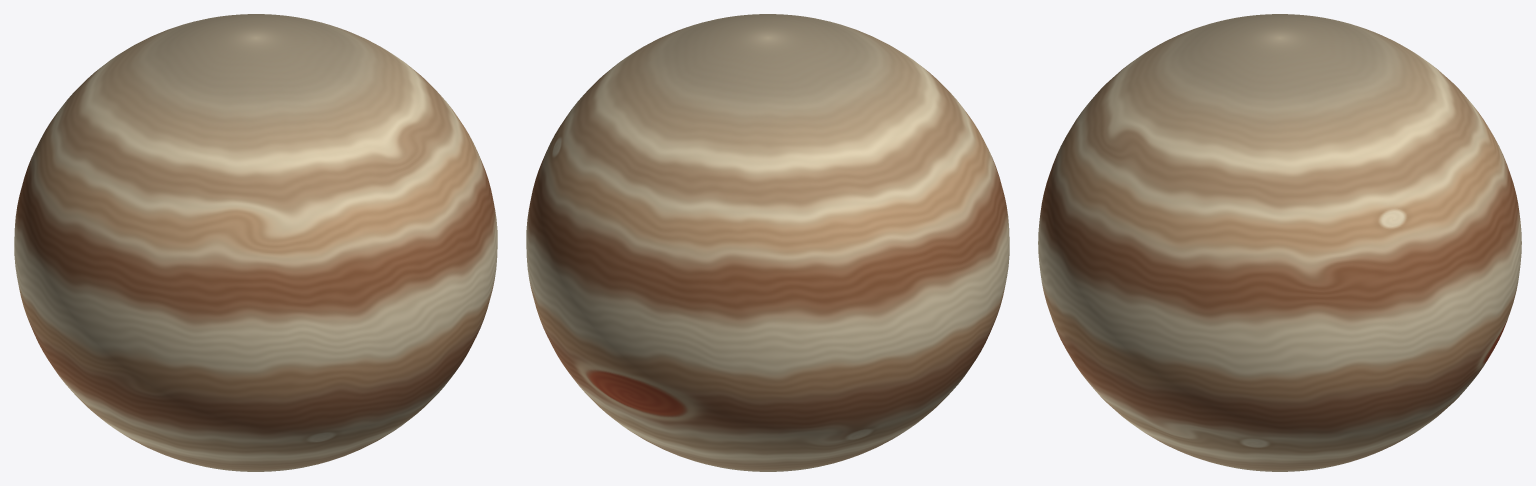
File: jupiter.glb
3 renders of one model, left to right at view 1: azimuth 30°, elevation 25°; view 2: azimuth 150°, elevation 25°; view 3: azimuth 270°, elevation 25°, orthographic.
Visible parts, largest first — view 1: model; view 2: model; view 3: model.
Boxes of the visible parts, box(x1,y1,x2,y2) form: model: box(14, 14, 497, 471); model: box(526, 14, 1009, 471); model: box(1038, 14, 1521, 471).
Size of the model in its own units: 2.14 by 2 by 2.14.
1 material, 1 textured.
